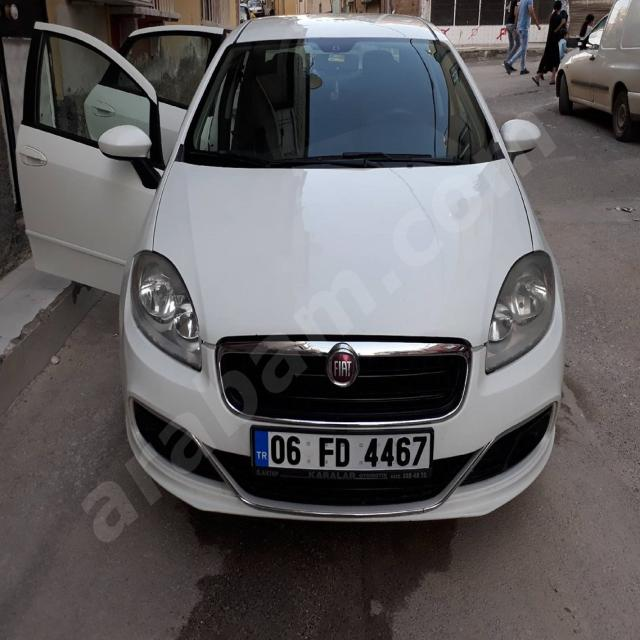license_plate: (252, 429, 433, 470)
